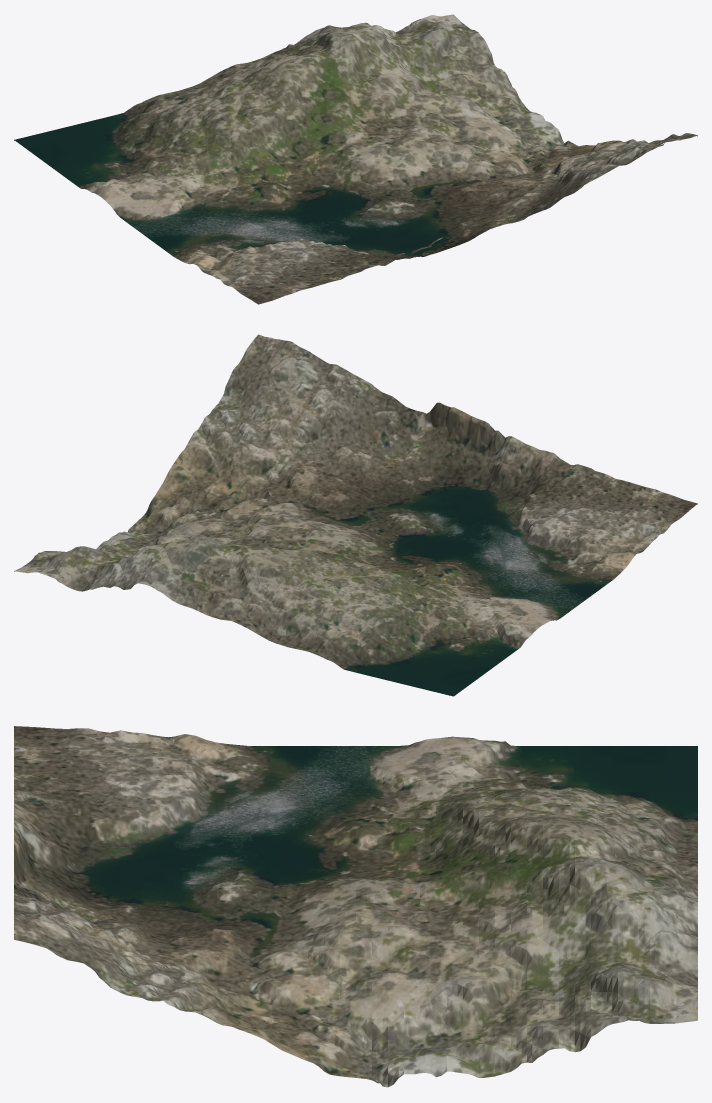
The picture shows the model from 3 angles, top to bottom: view 1: azimuth 30°, elevation 25°; view 2: azimuth 150°, elevation 25°; view 3: azimuth 270°, elevation 25°; orthographic projection. The views are drawn at different scales.
Bounding box in the file's own units: 500 × 117 × 481.
1 material, 1 textured.
